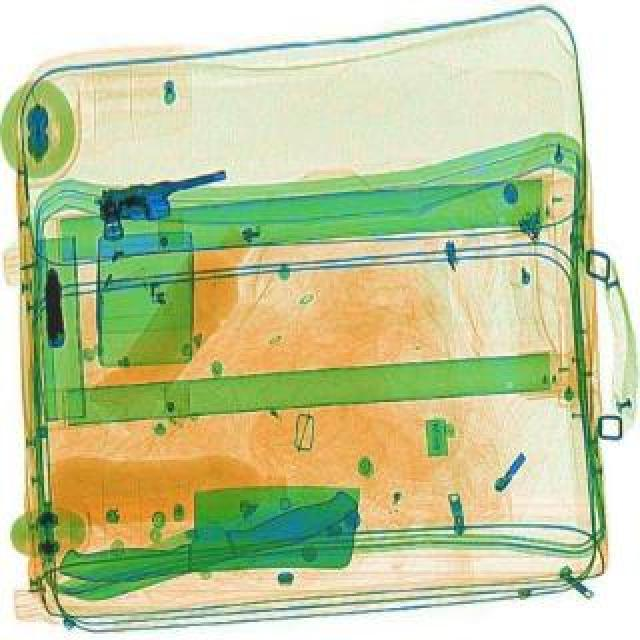gun: (84, 156, 236, 240), (30, 262, 70, 348)
knife: (48, 478, 364, 616), (54, 482, 362, 582)
